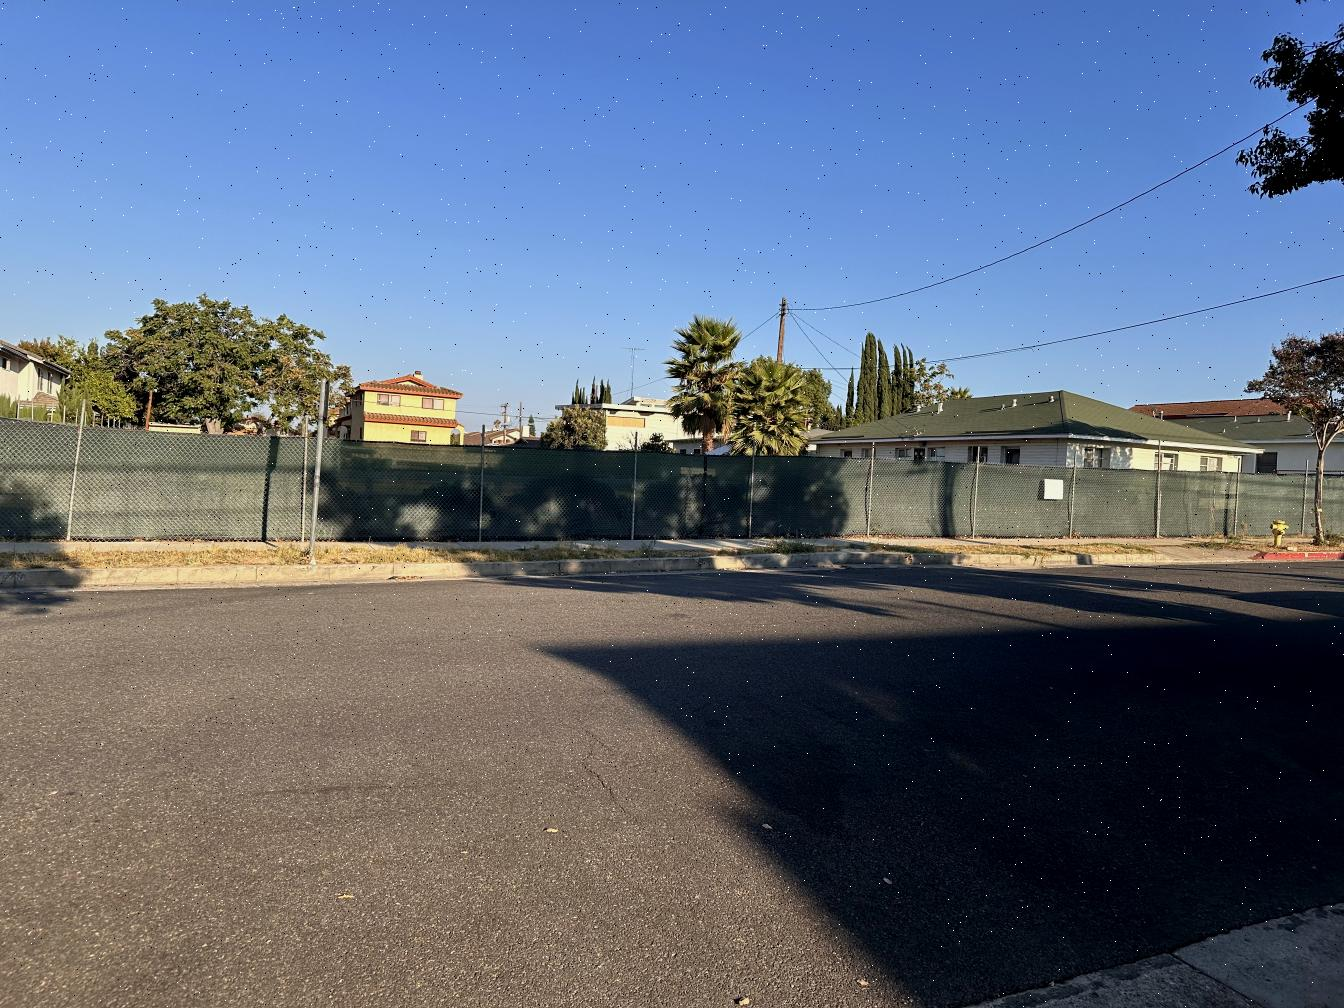curbs-laRr: (4, 568, 428, 590), (743, 552, 1158, 569), (429, 559, 743, 576)
